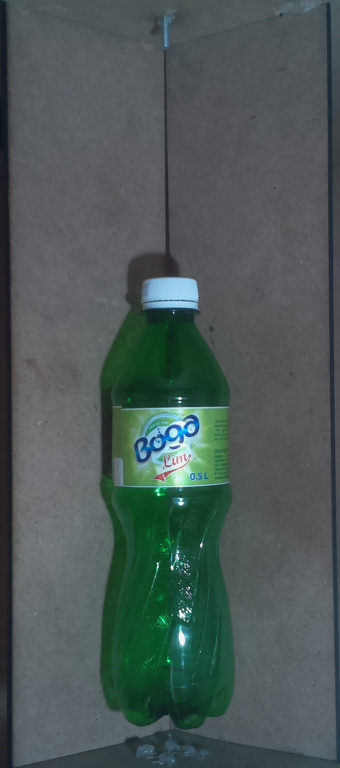Bouteille_0.5L: (98, 270, 244, 735)
